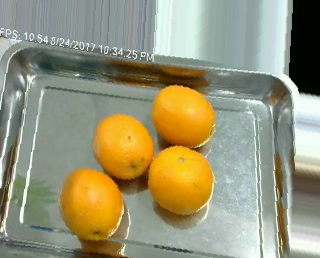Orange: (59, 168, 125, 241), (148, 144, 214, 214), (151, 83, 215, 147), (93, 112, 153, 179)
